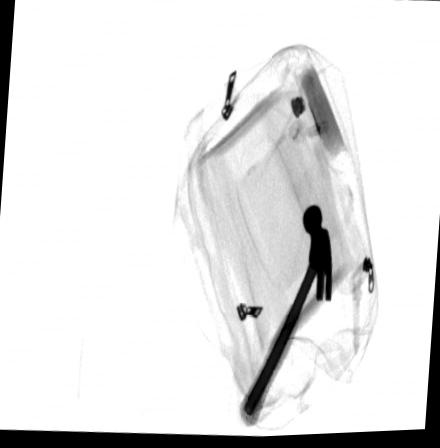Hammer: (237, 205, 333, 429)
